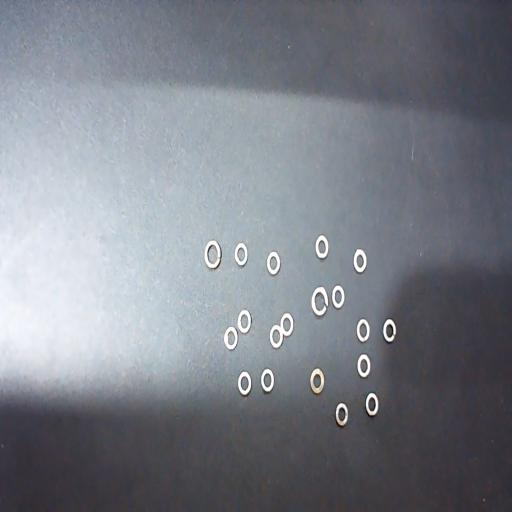washer: (311, 286, 329, 317), (204, 240, 222, 269), (309, 368, 325, 396), (266, 250, 281, 276), (237, 308, 252, 334), (260, 368, 275, 394), (364, 392, 379, 418), (382, 318, 397, 344), (315, 234, 329, 261), (238, 370, 252, 397), (234, 241, 248, 267), (353, 248, 367, 274), (331, 284, 345, 310), (356, 354, 370, 380), (356, 318, 370, 344), (280, 312, 294, 337), (270, 324, 284, 349), (224, 326, 238, 351), (335, 402, 348, 428)
